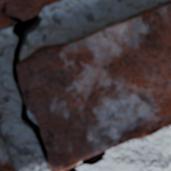brick: (17, 2, 170, 170), (0, 135, 13, 170)
broken_brick: (0, 0, 61, 19), (0, 14, 14, 31)
crack: (0, 2, 50, 168), (63, 150, 105, 170)
